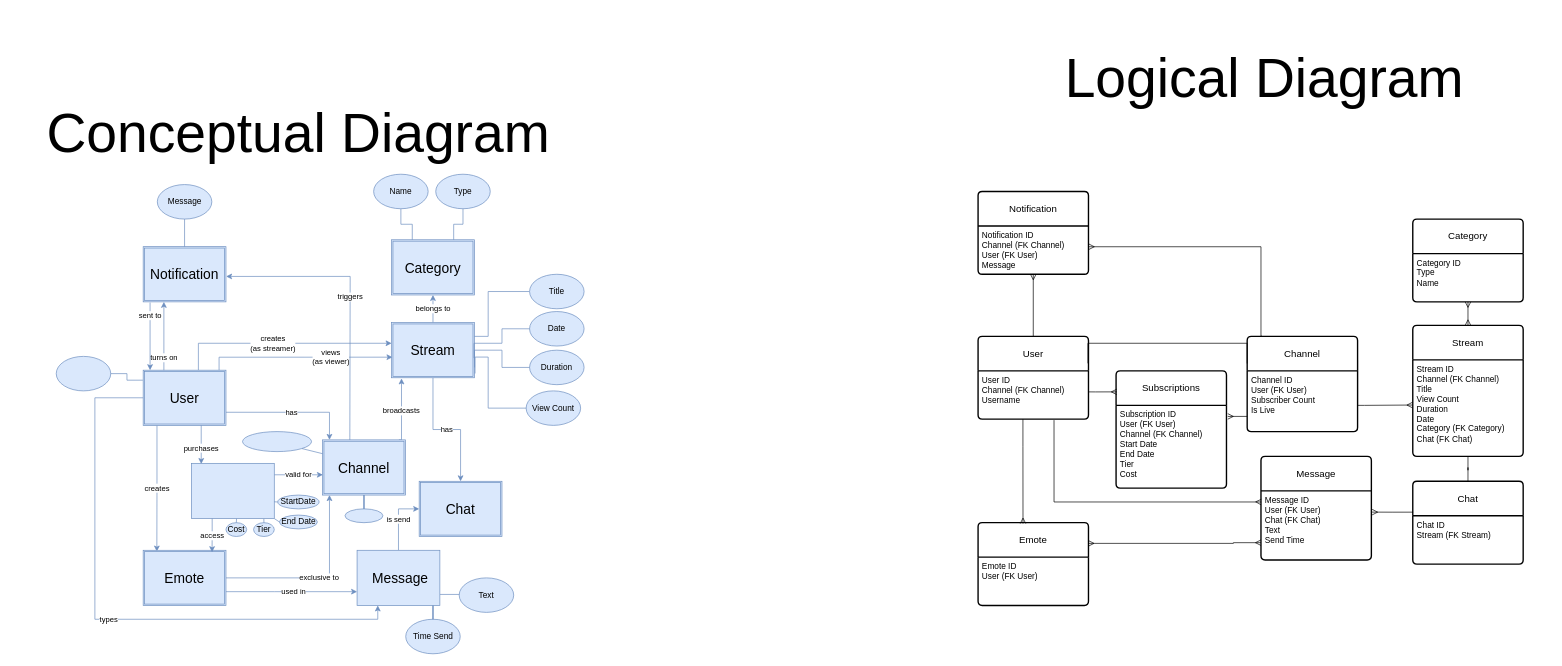
Some shapes in this 1562 by 666 pixel diagram are drawn without their labels. The shapes that lost their labels are listed below. From the top down, each one's centre as x and y in pixels, then its label:
(x=83, y=373): Username
(x=277, y=441): Subscriber Count
(x=232, y=491): Subscription
(x=363, y=515): Is Live
